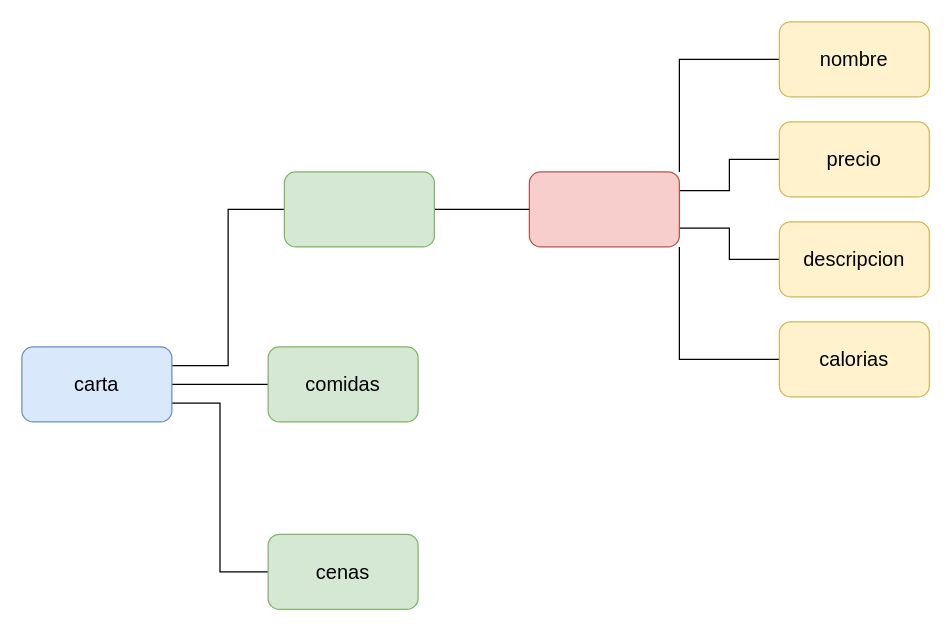
The diagram is 951 pixels wide and 631 high, and some of its shapes have lost their labels. Each missing label, with the centre of its shape:
desayuno: (x=603, y=209)
desayunos: (x=358, y=209)
